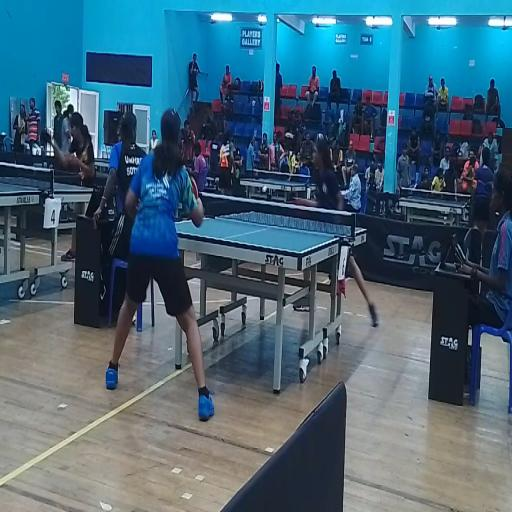ball: (261, 185, 268, 195)
